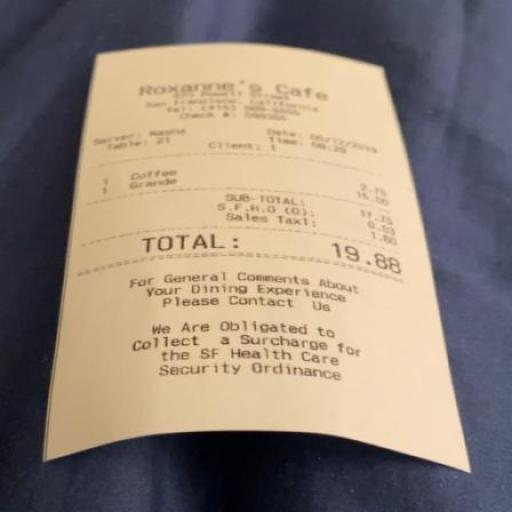paper: (48, 31, 506, 512)
